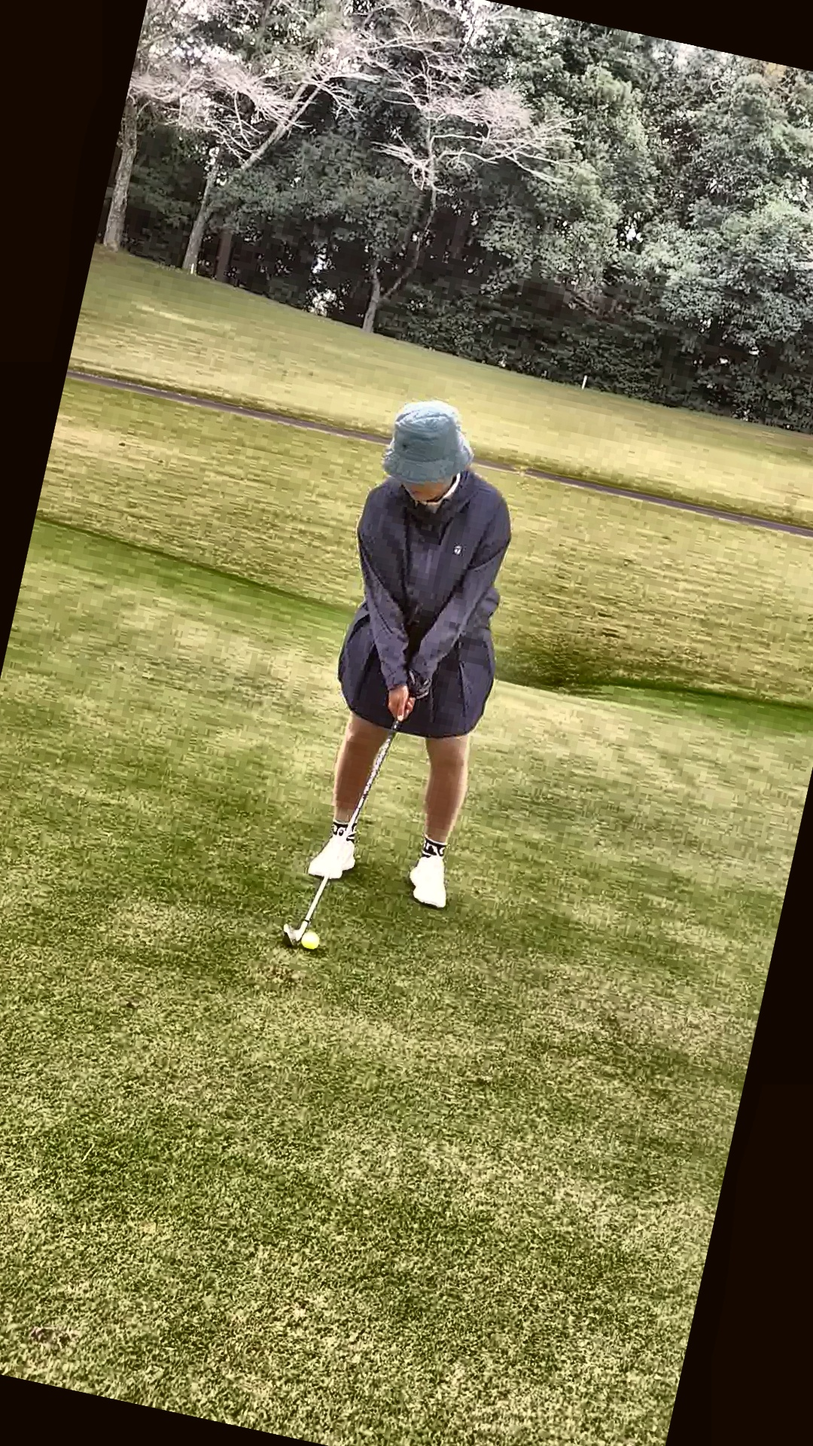clubhead: (213, 875, 377, 1011)
